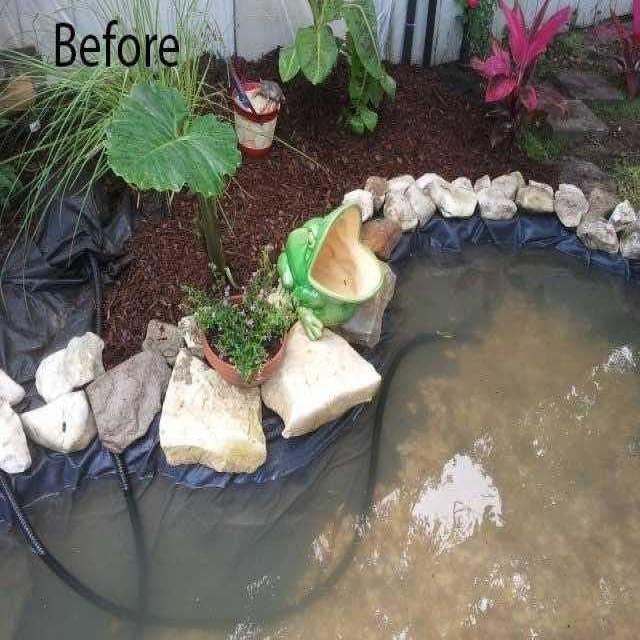Ponds: (3, 173, 640, 640)
